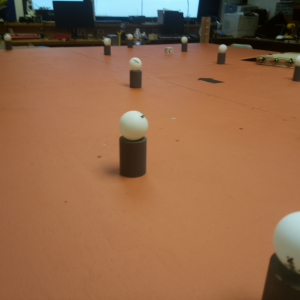obstacle: (261, 209, 300, 294), (116, 109, 150, 178), (129, 58, 143, 88), (102, 37, 112, 57), (216, 45, 226, 64), (4, 32, 12, 51), (125, 32, 134, 47), (180, 37, 188, 52)
side: (256, 54, 295, 67)
